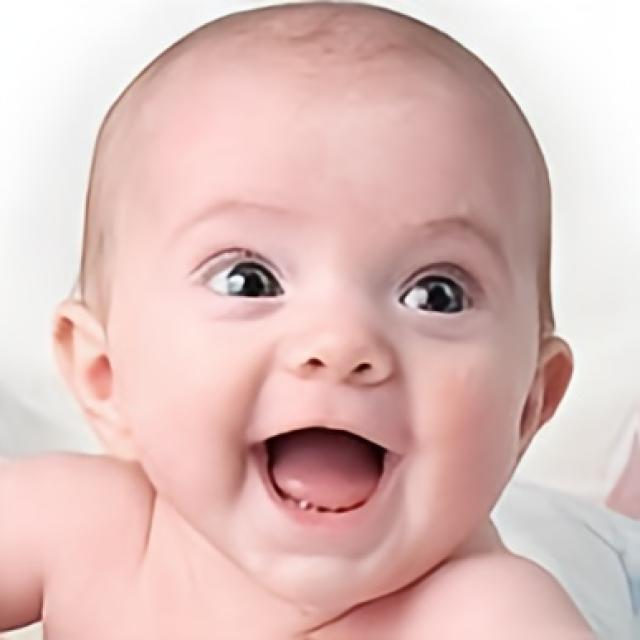surprise: (109, 49, 536, 609)
